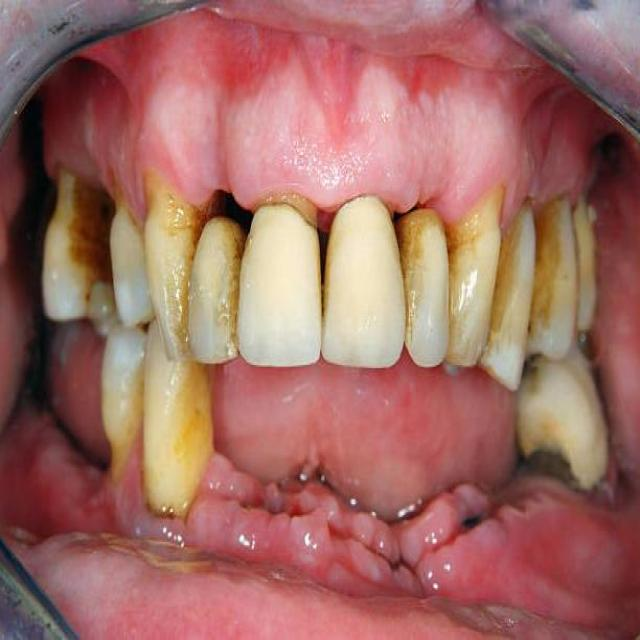caries: (519, 424, 584, 510)
